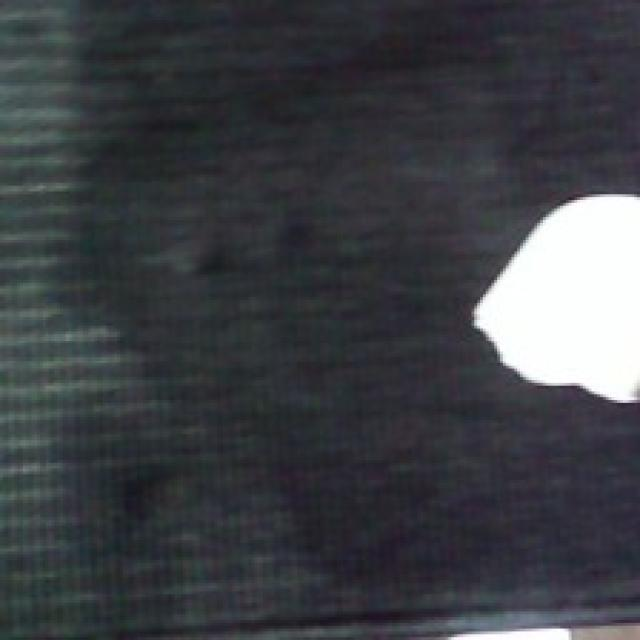defected: (466, 188, 637, 408)
